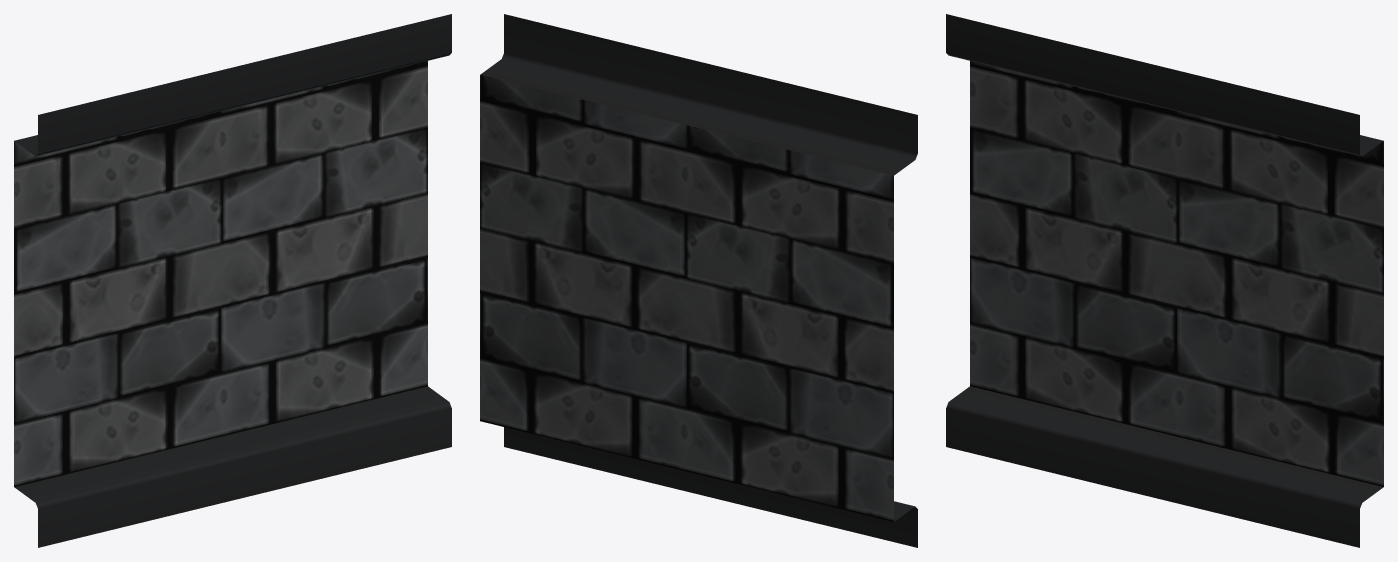
File: M_Wall_Big_Half.fbx
3 views of the same model, side by side, from view 1: azimuth 30°, elevation 25°; view 2: azimuth 150°, elevation 25°; view 3: azimuth 330°, elevation 25° (orthographic).
Parts seen in each view (by area): view 1: Wall_Big_Half; view 2: Wall_Big_Half; view 3: Wall_Big_Half.
Boxes of the visible parts, x1=… form: Wall_Big_Half: x1=14, y1=14, x2=451, y2=547; Wall_Big_Half: x1=480, y1=14, x2=917, y2=547; Wall_Big_Half: x1=946, y1=14, x2=1383, y2=547.
Size of the model in its own units: 200 by 200 by 20.
